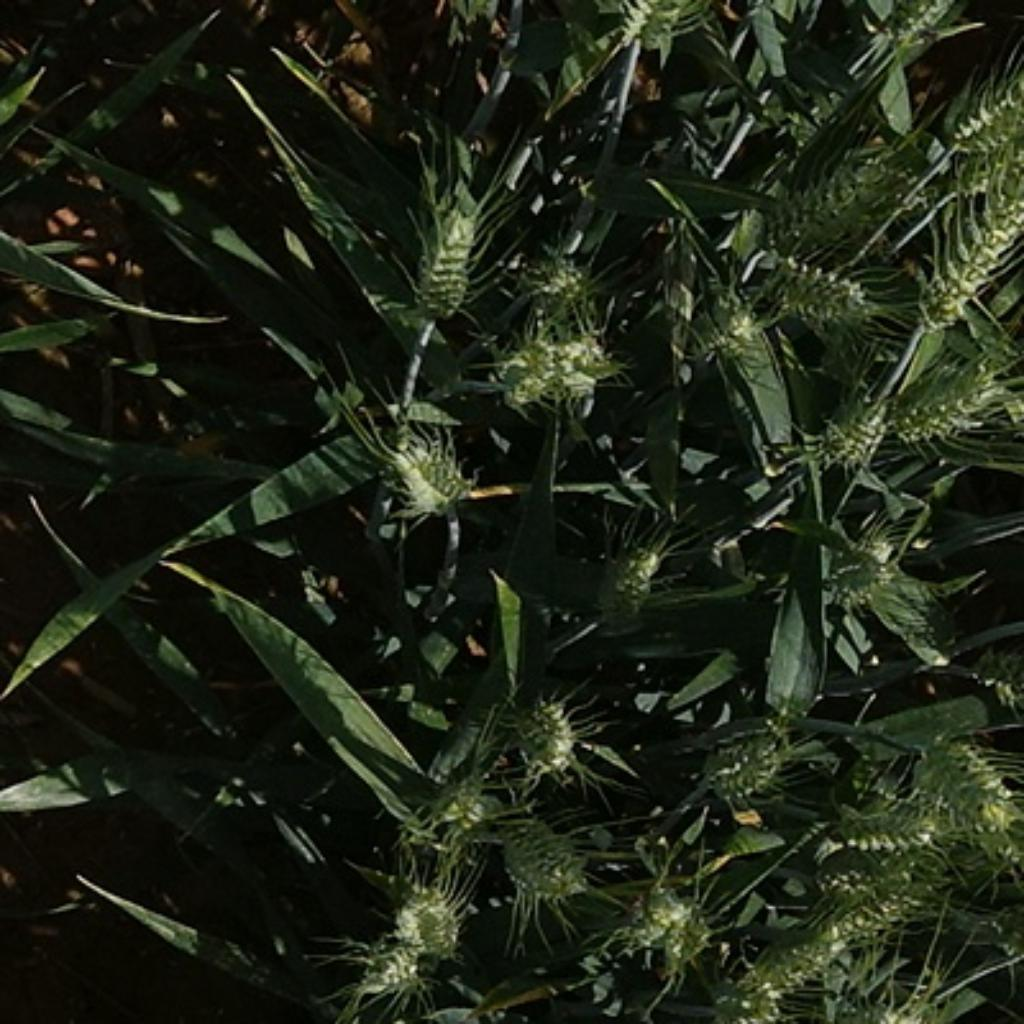0-0: (750, 125, 934, 258), (908, 132, 1024, 339), (486, 307, 622, 412), (803, 519, 921, 629), (819, 783, 967, 860), (412, 181, 486, 315), (945, 55, 1023, 180), (801, 863, 942, 932), (352, 893, 440, 999), (616, 872, 716, 965), (892, 366, 1013, 442), (906, 729, 1011, 816), (754, 915, 856, 1000), (701, 716, 796, 806), (378, 427, 476, 514), (693, 281, 775, 378), (762, 250, 867, 325), (499, 686, 586, 775), (500, 815, 583, 903), (803, 401, 888, 478), (406, 889, 480, 965), (420, 771, 493, 842), (710, 963, 791, 1024), (511, 249, 588, 303), (972, 632, 1024, 709), (975, 791, 1024, 872), (609, 536, 667, 603)
